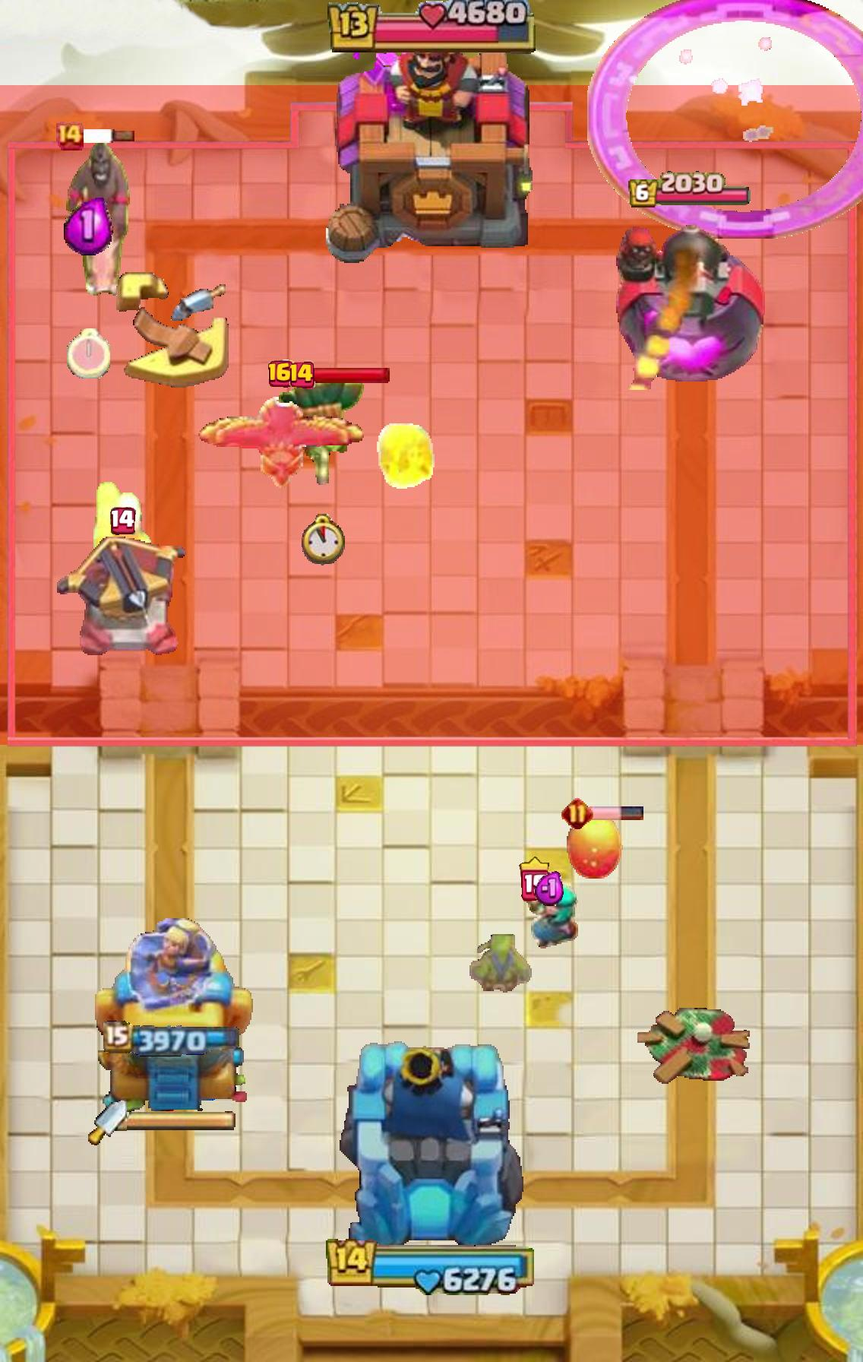bar: (311, 366, 390, 384), (81, 128, 135, 144), (590, 806, 644, 821)
bar-level: (519, 856, 549, 901), (561, 797, 593, 829), (54, 121, 84, 151), (289, 360, 315, 389), (268, 360, 294, 388), (110, 507, 136, 535)
